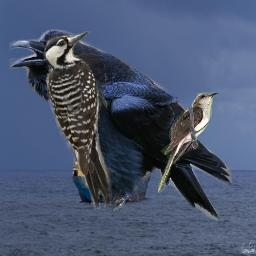Crow: (9, 29, 232, 222)
Cuckoo: (158, 92, 218, 193)
Woodpecker: (44, 31, 112, 209)
